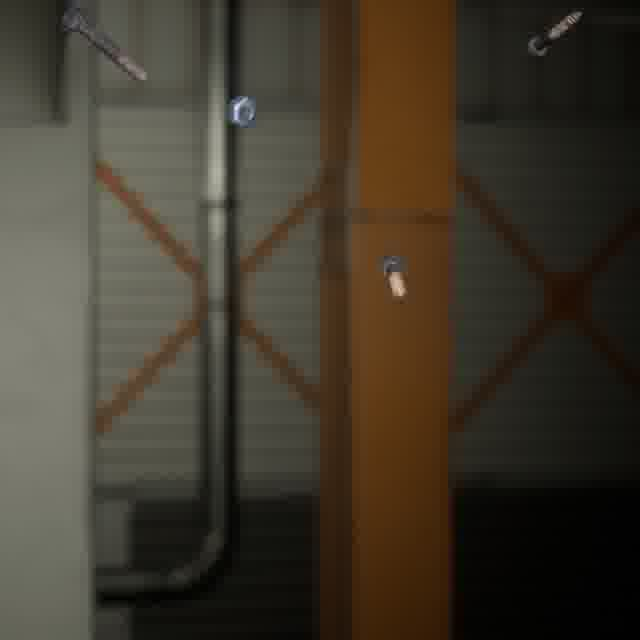bolt: (56, 0, 153, 88), (521, 7, 586, 62), (374, 248, 411, 304)
nut: (222, 91, 260, 132)
